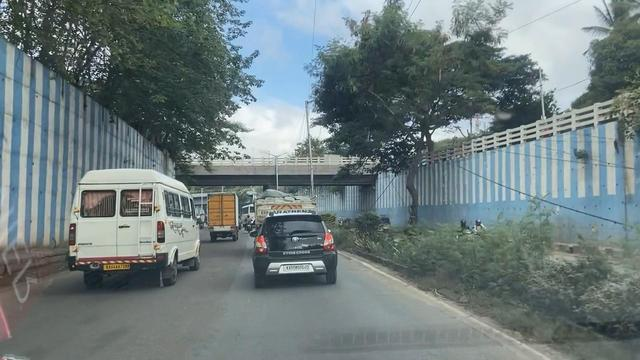HMV: (69, 170, 199, 282), (206, 194, 236, 239)
LMV: (254, 213, 338, 286)
